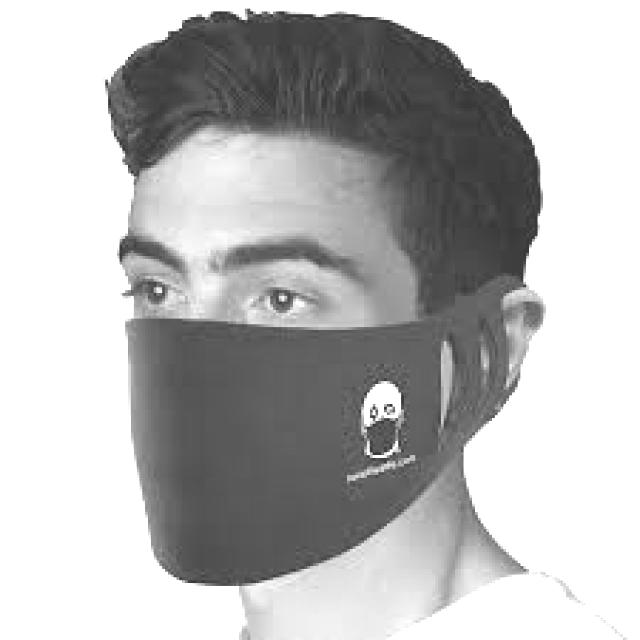fake: (83, 307, 549, 632)
real: (115, 135, 463, 594)
